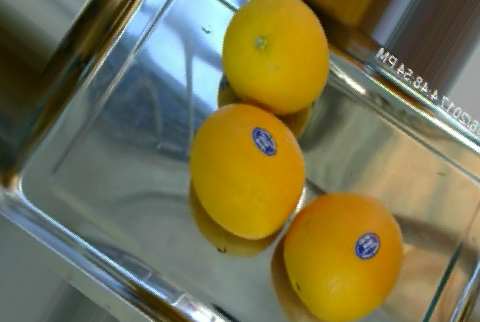Orange: (281, 192, 404, 322), (188, 103, 304, 240), (222, 1, 331, 117)
